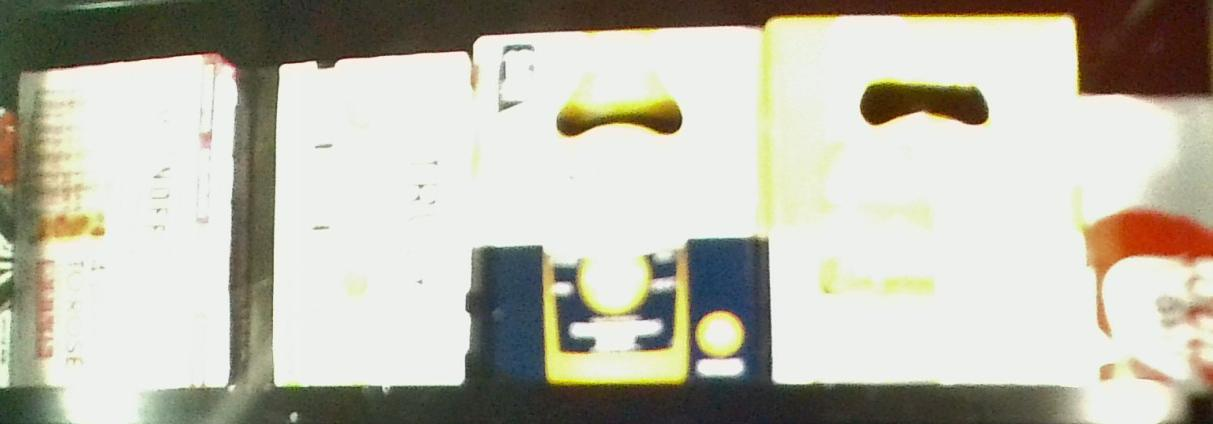bottle: (768, 16, 1079, 386), (473, 31, 767, 383), (14, 63, 232, 386), (282, 57, 464, 386), (1080, 88, 1213, 395)
